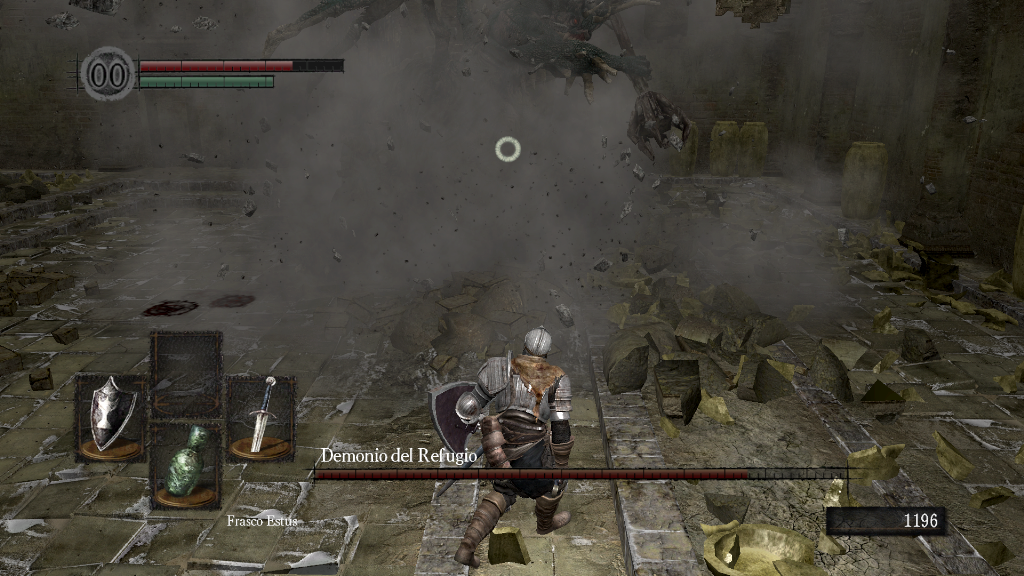bossHP: (314, 469, 847, 479)
health: (138, 58, 343, 71)
humanity: (80, 45, 136, 102)
player: (424, 324, 577, 567)
souls: (825, 506, 945, 536)
stamina: (138, 74, 274, 88)
